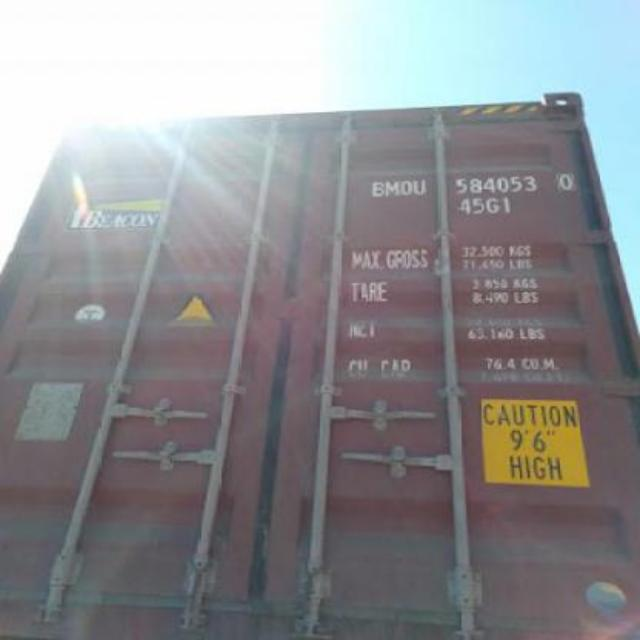0: (496, 176, 512, 194), (558, 174, 574, 190)
3: (522, 175, 540, 193)
4: (484, 178, 498, 192)
5: (508, 177, 526, 193), (454, 178, 470, 192)
8: (471, 178, 484, 192)
B: (368, 180, 384, 198)
M: (384, 180, 400, 196)
O: (401, 180, 414, 196)
U: (414, 179, 430, 197)
